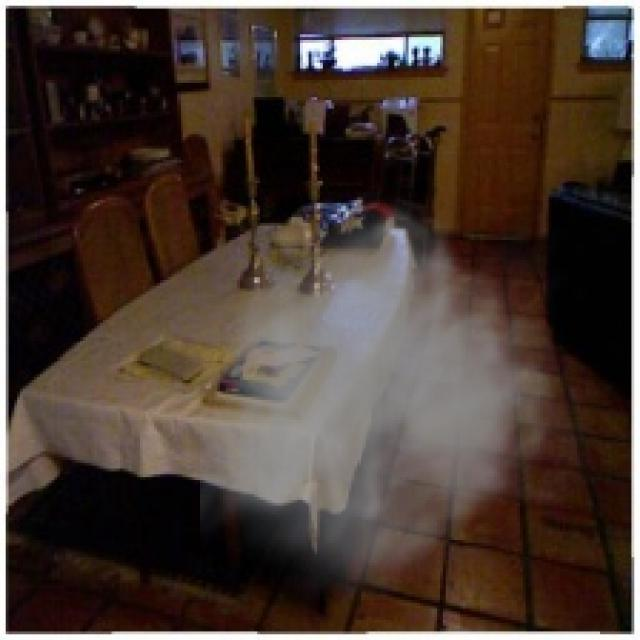Smoke: (200, 186, 597, 612)
